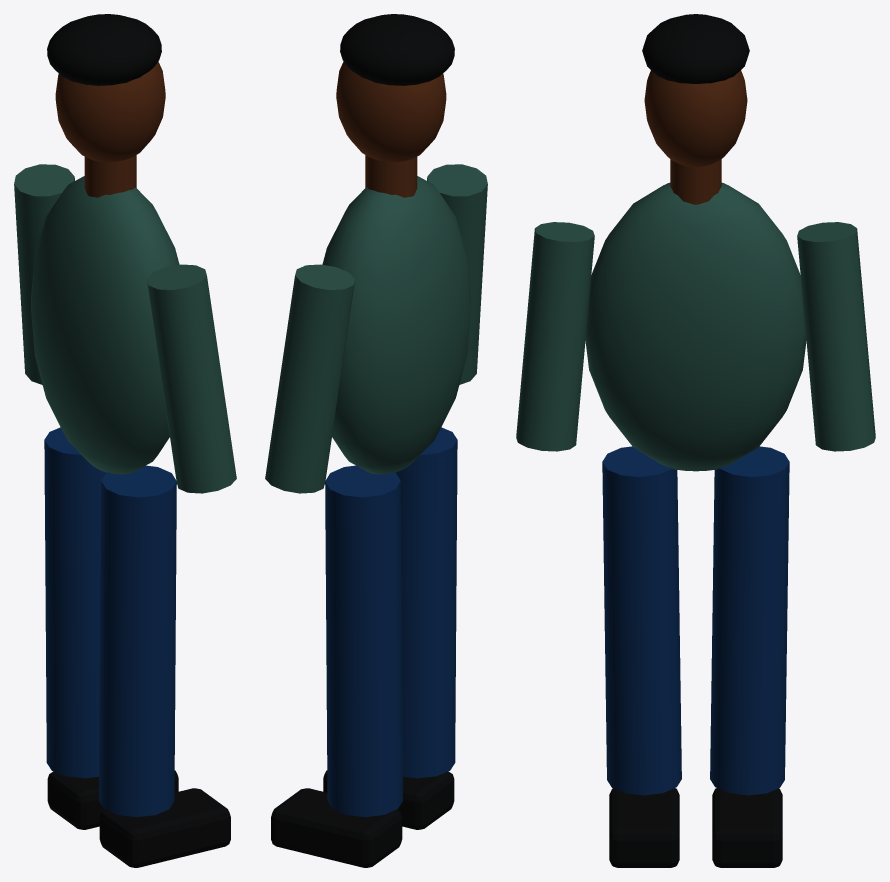
Rendered from Citizen.fbx.
3 views of the same model, side by side, from view 1: azimuth 30°, elevation 25°; view 2: azimuth 150°, elevation 25°; view 3: azimuth 270°, elevation 25° (orthographic).
Visible parts, largest first — view 1: Citizen; view 2: Citizen; view 3: Citizen.
Boxes of the visible parts, bbox=[...] form: Citizen: bbox=[14, 14, 236, 867]; Citizen: bbox=[265, 14, 487, 867]; Citizen: bbox=[516, 14, 875, 867].
Size of the model in its own units: 33.5 by 76.81 by 190.
